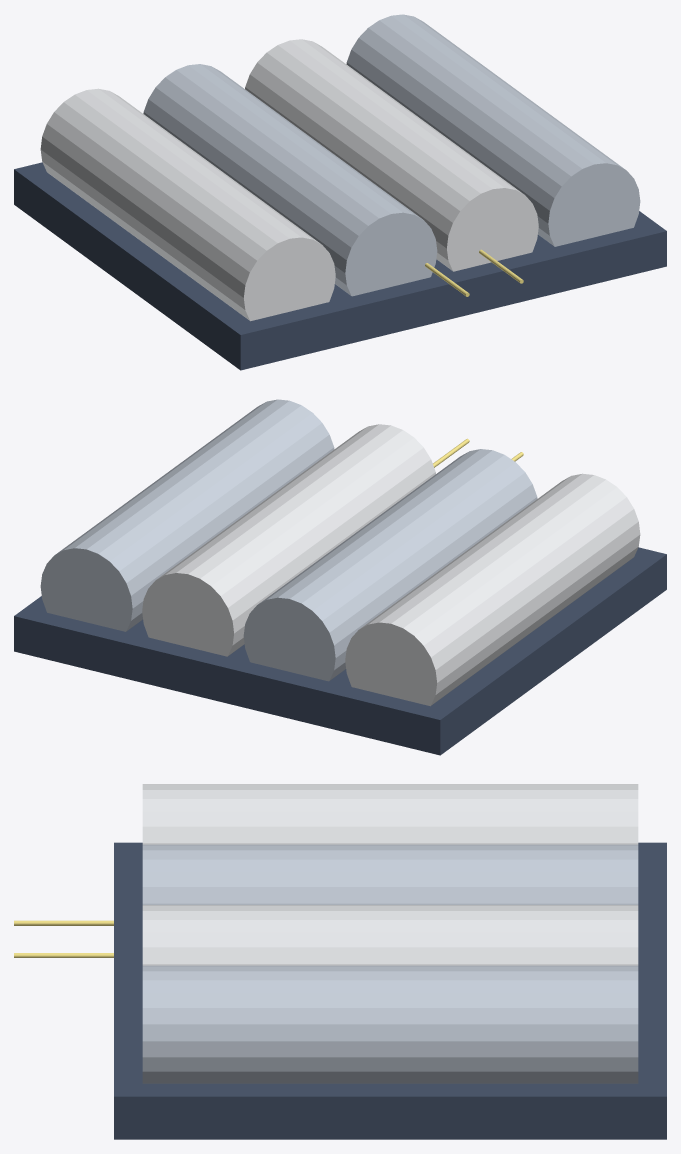
Rendered from battery-holder-4xaa.glb.
The picture shows the model from 3 angles, top to bottom: view 1: azimuth 30°, elevation 25°; view 2: azimuth 150°, elevation 25°; view 3: azimuth 270°, elevation 25°; orthographic projection. The views are drawn at different scales.
Visible parts, largest first — view 1: battery-holder-4xaa_mesh; view 2: battery-holder-4xaa_mesh; view 3: battery-holder-4xaa_mesh.
Boxes of the visible parts, x1,y1,x2,y2 form: battery-holder-4xaa_mesh: [14, 14, 666, 370]; battery-holder-4xaa_mesh: [14, 399, 666, 755]; battery-holder-4xaa_mesh: [14, 784, 666, 1139].
Size of the model in its own units: 63 by 15.3 by 68.5.
